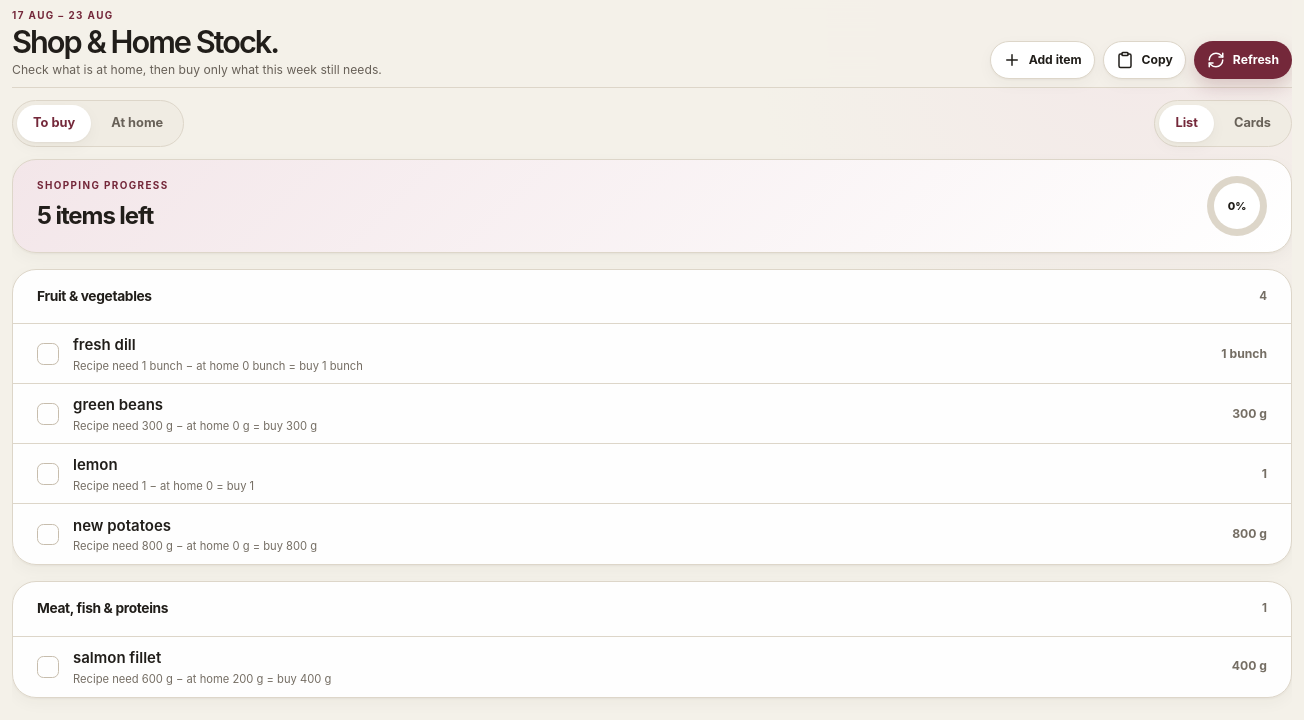
ShoppingPage Home Stock › switches the shopping list and Home Stock between list and card displays
Expected: the element with class "shopping-group" that starts with "Fruit & vegetables" is shown, [12,269,1292,565]
Click the button "Cards". click: (1252, 123)
box: [1218,104,1287,142]
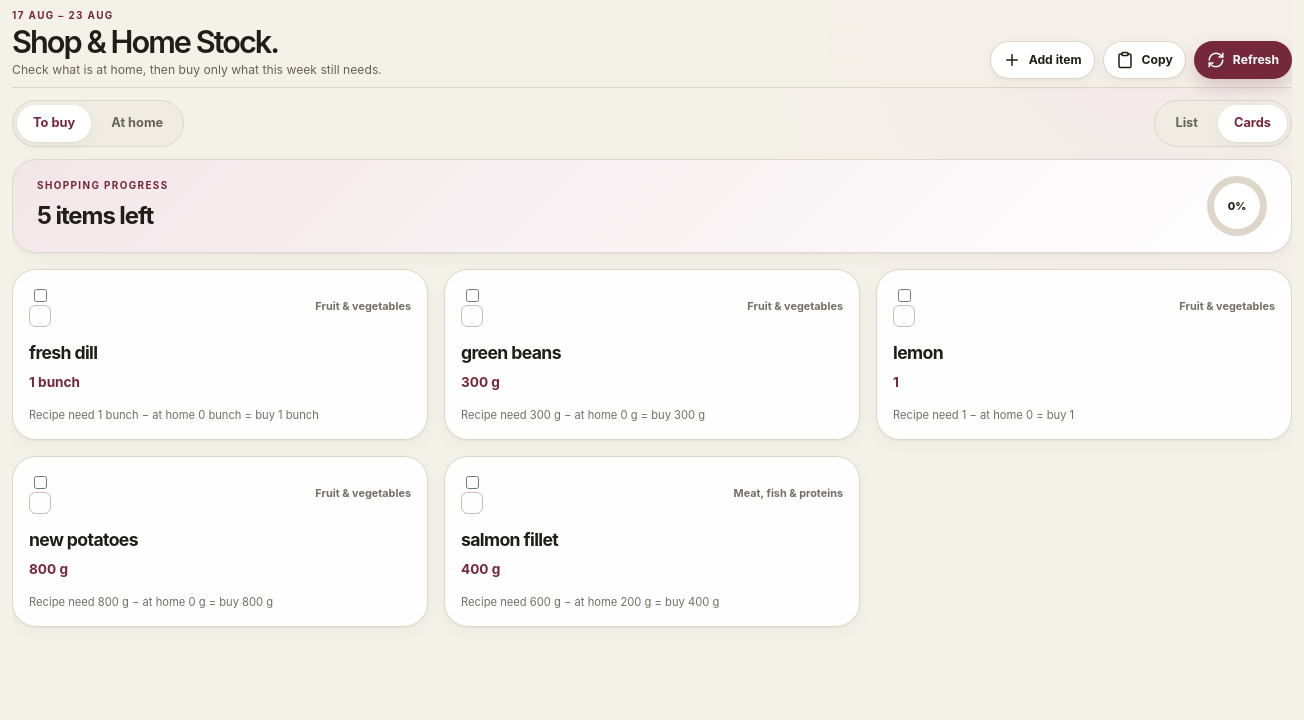
Now the element with class "shopping-card-grid" is shown, box [12,269,1292,627]
Click the button "At home". click: (137, 123)
box: [95,104,179,142]
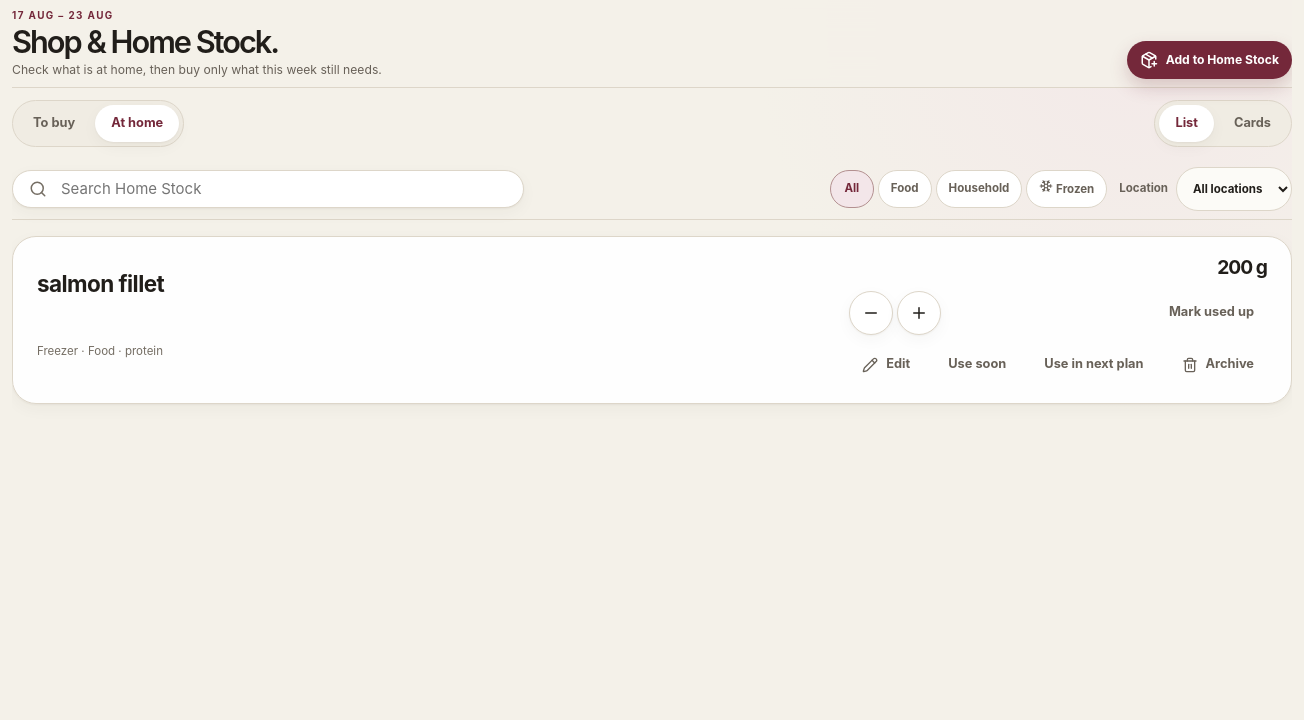
Now the element with class "home-stock__list" is shown, box [12,236,1292,404]
Click the button "Cards". click: (1252, 123)
box: [1218,104,1287,142]
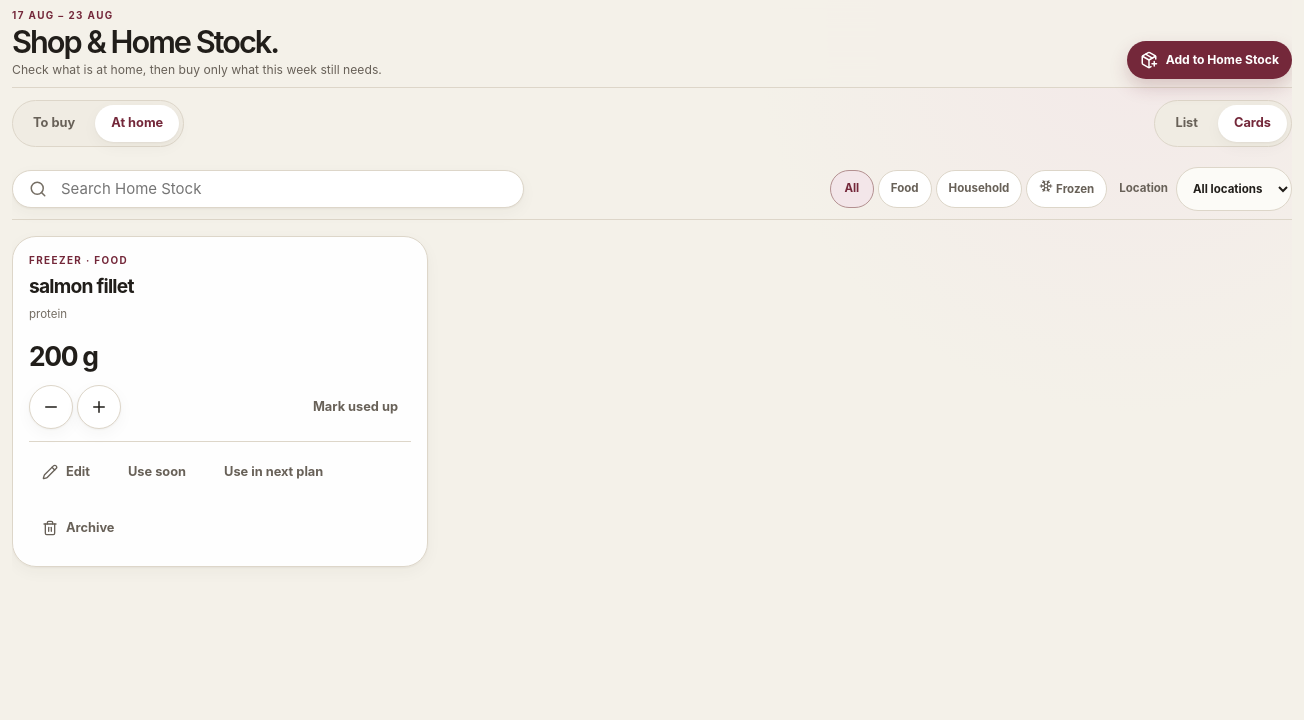
Now the element with class "home-stock__list" is shown, box [12,236,428,567]
Click the button "List". click: (1187, 123)
box: [1159,104,1214,142]
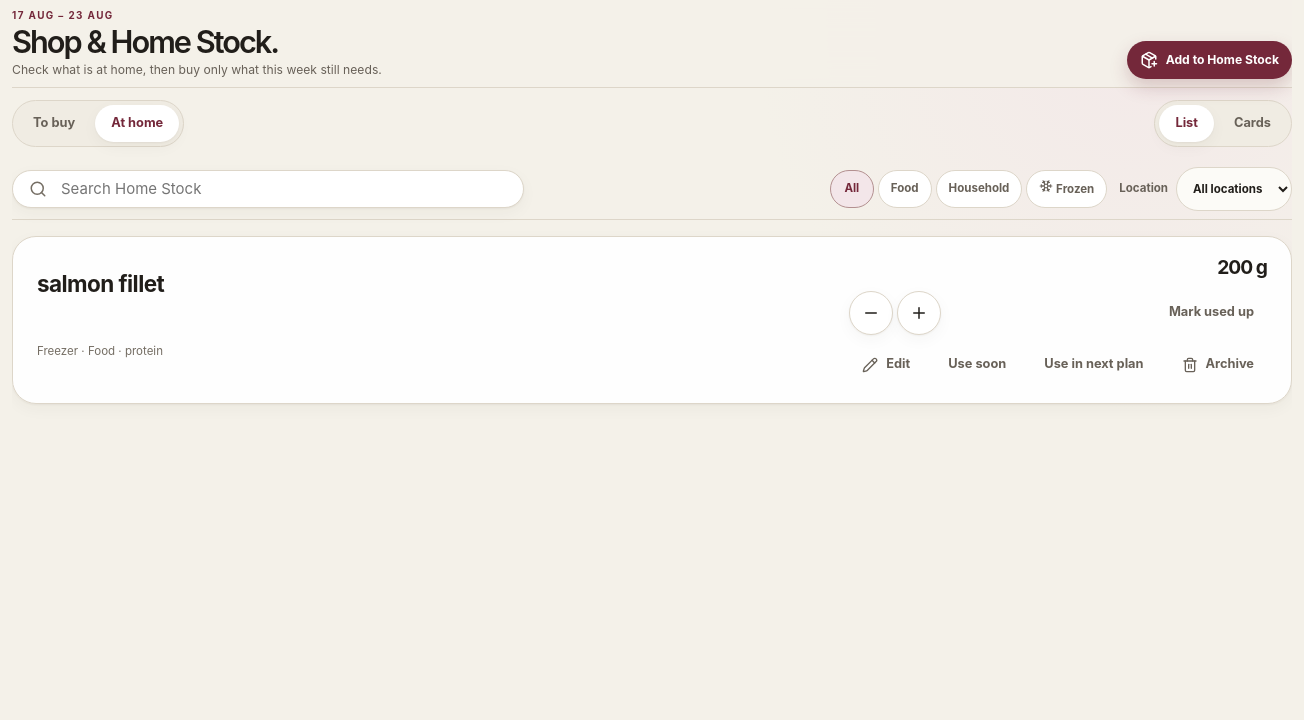
Now the element with class "home-stock__list" is shown, box [12,236,1292,404]
